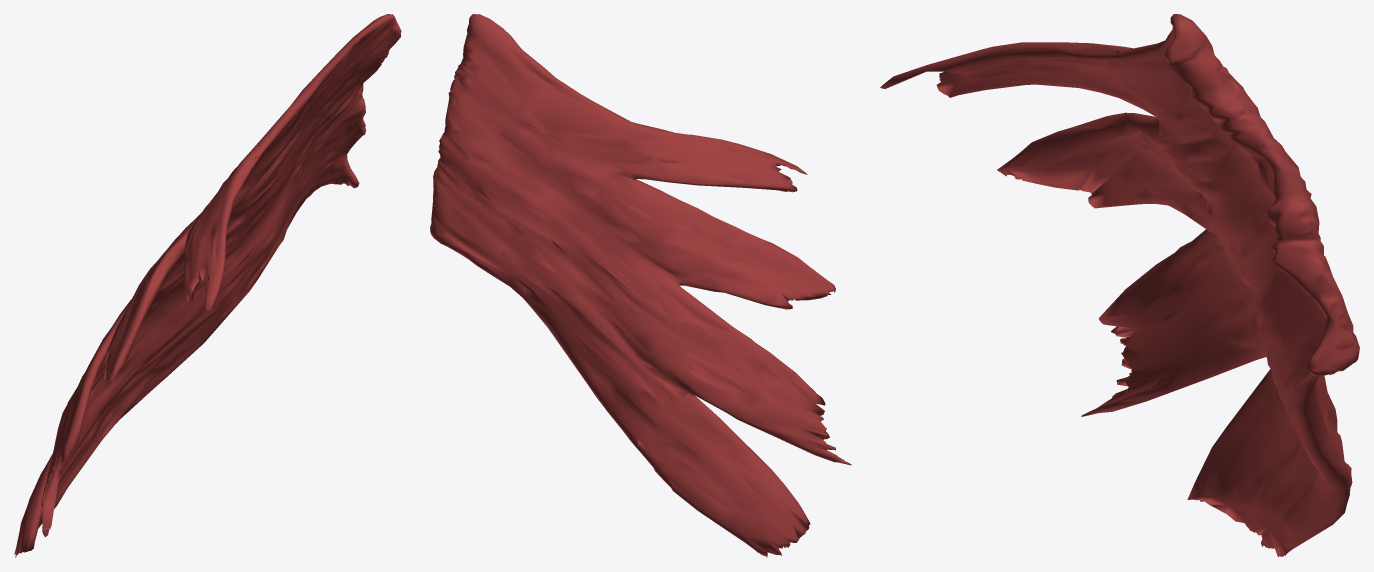
The model's file is serratus-posterior-superior-muscle-r.glb.
3 views of the same model, side by side, from view 1: azimuth 30°, elevation 25°; view 2: azimuth 150°, elevation 25°; view 3: azimuth 270°, elevation 25° (orthographic). The views are drawn at different scales.
Visible parts, largest first — view 1: Serratus posterior superior muscle.r; view 2: Serratus posterior superior muscle.r; view 3: Serratus posterior superior muscle.r.
Part boxes in pixels (bbox=[...]): Serratus posterior superior muscle.r: bbox=[14, 14, 401, 557]; Serratus posterior superior muscle.r: bbox=[430, 14, 851, 557]; Serratus posterior superior muscle.r: bbox=[880, 14, 1359, 557].
Size of the model in its own units: 0.1055 by 0.1257 by 0.0664.
